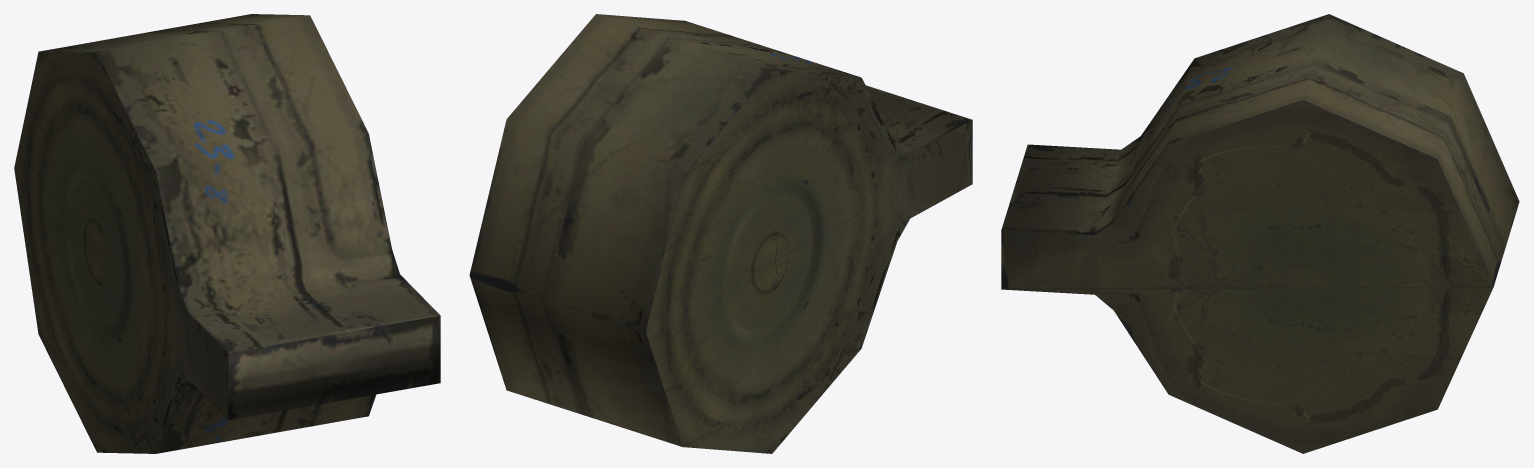
File: t6_attach_mag_hamr_world_LOD1.obj
The picture shows the model from 3 angles, left to right: view 1: azimuth 30°, elevation 25°; view 2: azimuth 150°, elevation 25°; view 3: azimuth 270°, elevation 25°; orthographic projection. The views are drawn at different scales.
Visible parts, largest first — view 1: mtl_t6_wpn_lmg_hamr_parts; view 2: mtl_t6_wpn_lmg_hamr_parts; view 3: mtl_t6_wpn_lmg_hamr_parts.
Part boxes in pixels (bbox=[...]): mtl_t6_wpn_lmg_hamr_parts: bbox=[14, 14, 440, 453]; mtl_t6_wpn_lmg_hamr_parts: bbox=[469, 14, 972, 453]; mtl_t6_wpn_lmg_hamr_parts: bbox=[1001, 14, 1519, 453].
Bounding box in the file's own units: 10.17 × 14.84 × 19.68.
